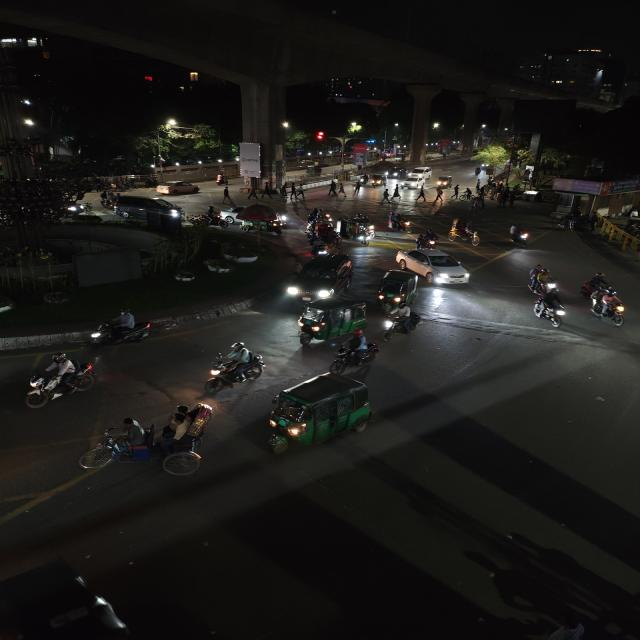bicycle: (461, 189, 475, 203)
car: (283, 252, 355, 302), (395, 247, 475, 289), (156, 180, 201, 197), (406, 167, 433, 180), (387, 166, 403, 180)
cng: (267, 372, 378, 450), (294, 297, 367, 347), (373, 269, 420, 310), (434, 175, 452, 189), (370, 173, 387, 187)
motorcycle: (18, 353, 100, 412), (199, 342, 266, 397), (582, 272, 629, 330), (85, 313, 154, 349), (379, 302, 425, 342), (530, 286, 570, 330), (331, 336, 380, 370), (525, 263, 562, 295), (506, 221, 534, 248), (385, 210, 415, 233), (415, 228, 441, 250)
pedestrian: (326, 180, 346, 201), (558, 213, 578, 231), (284, 183, 300, 202), (296, 182, 309, 202), (220, 187, 234, 204), (414, 190, 430, 204), (390, 186, 402, 204), (262, 182, 272, 202), (381, 188, 393, 204), (498, 192, 511, 206), (248, 186, 257, 203), (453, 184, 462, 199), (508, 193, 516, 207), (475, 178, 482, 190)
rickshaw: (77, 400, 217, 480), (237, 205, 287, 236), (447, 216, 489, 245)
